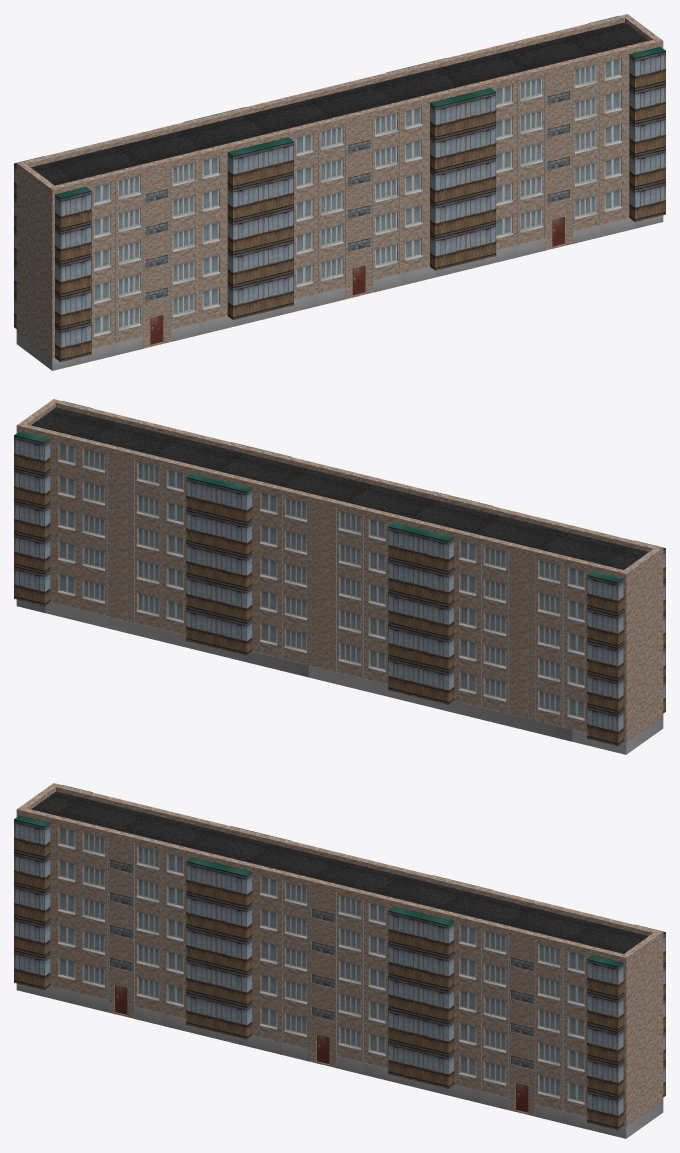
Rendered from building3.FBX.
The picture shows the model from 3 angles, top to bottom: view 1: azimuth 30°, elevation 25°; view 2: azimuth 150°, elevation 25°; view 3: azimuth 330°, elevation 25°; orthographic projection.
Parts seen in each view (by area): view 1: Object028; view 2: Object028; view 3: Object028.
Part boxes in pixels (x1=…): Object028: x1=14, y1=14, x2=665, y2=370; Object028: x1=14, y1=399, x2=665, y2=754; Object028: x1=14, y1=783, x2=665, y2=1138.
Size of the model in its own units: 2974 by 842 by 400.
Materials: 8 (8 with a texture image).
